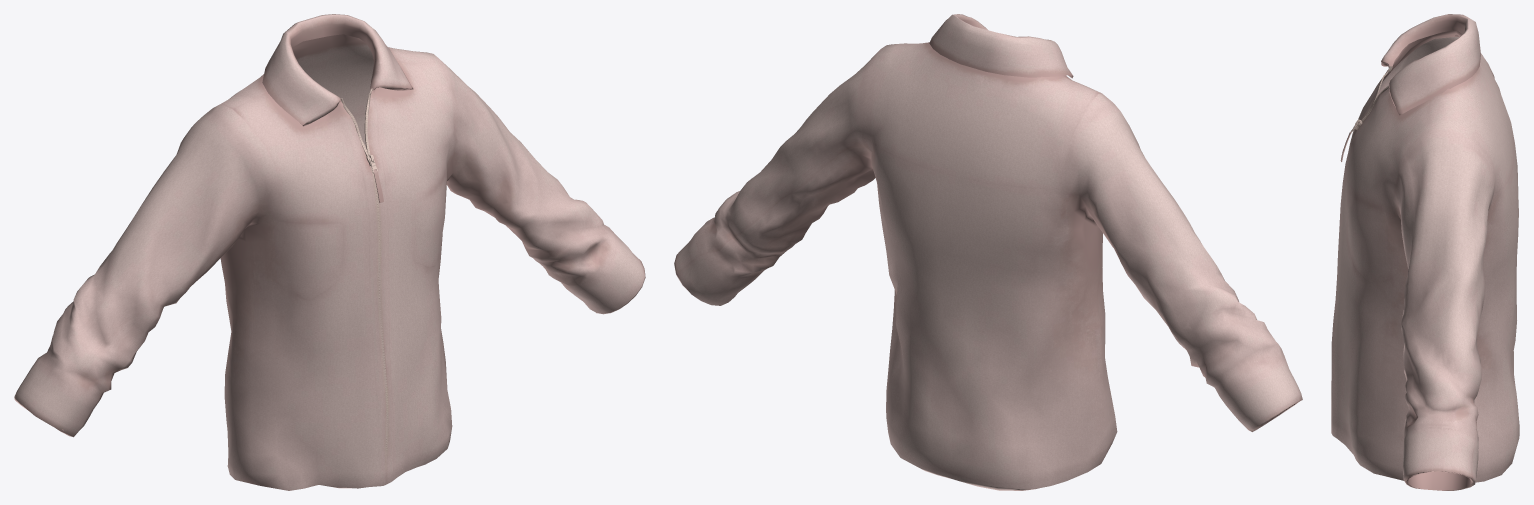
The picture shows the model from 3 angles, left to right: view 1: azimuth 30°, elevation 25°; view 2: azimuth 150°, elevation 25°; view 3: azimuth 270°, elevation 25°; orthographic projection. The views are drawn at different scales.
Parts seen in each view (by area): view 1: Cloth_L; view 2: Cloth_L; view 3: Cloth_L.
Part boxes in pixels (x1,y1,x2,y2): Cloth_L: [14, 14, 645, 490]; Cloth_L: [674, 14, 1302, 490]; Cloth_L: [1331, 14, 1519, 490].
Size of the model in its own units: 108 by 73.61 by 29.54.
1 material, 1 textured.
